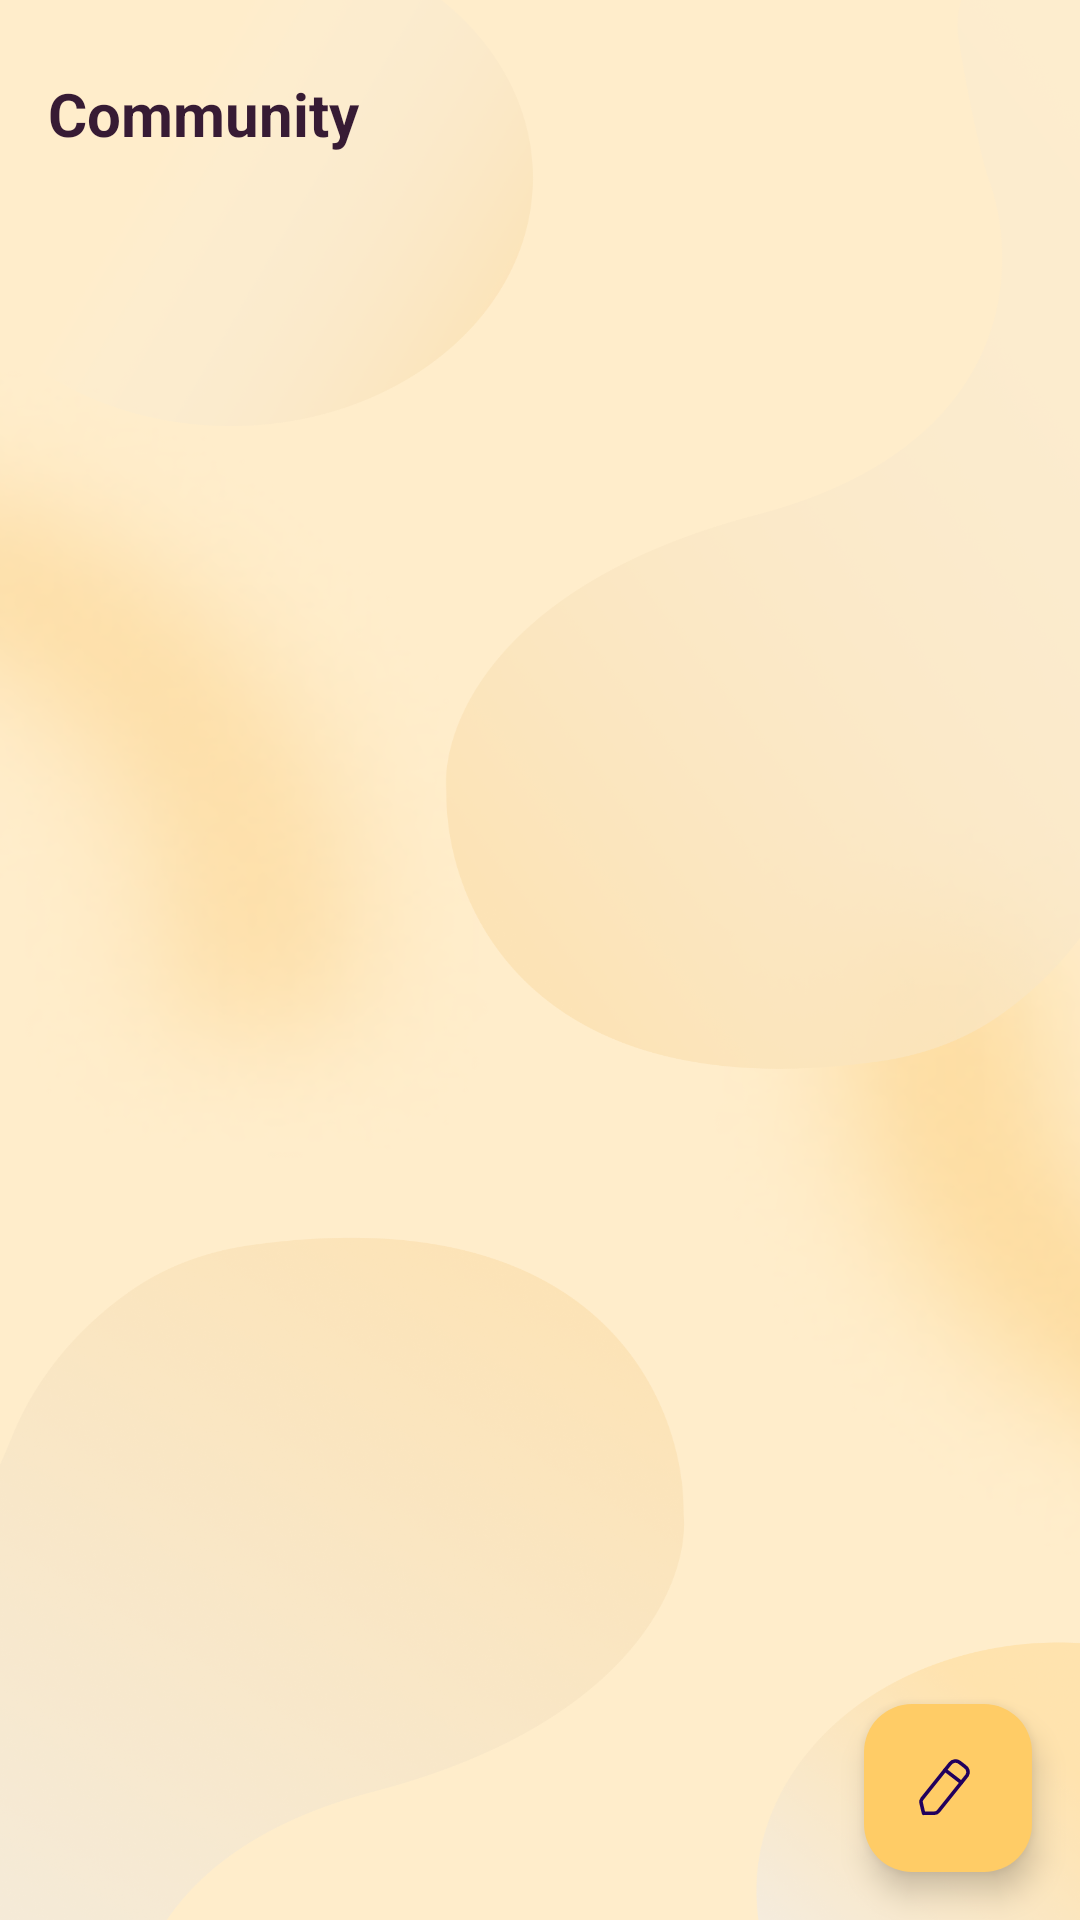

Icons on this 1080w x 1920h Android screen, each with the point to tap as point (x, y):
Create Daily Journal: point (948, 1788)
